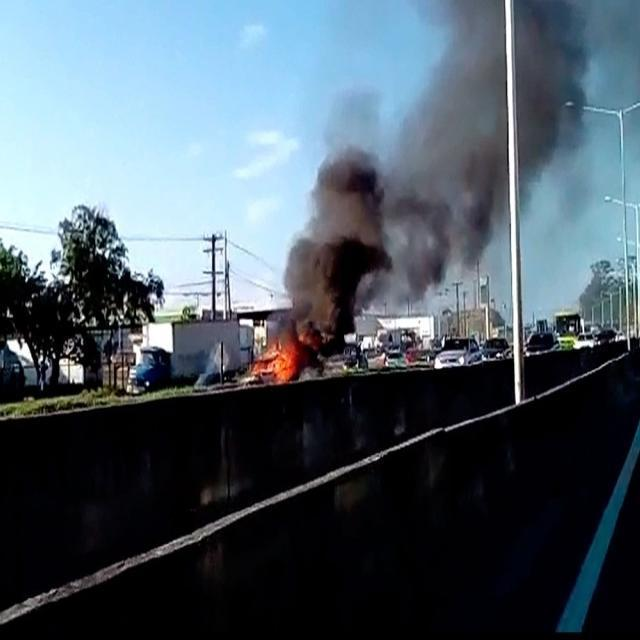Fire: (266, 333, 302, 385)
Smoke: (404, 0, 626, 249), (279, 134, 446, 320)
